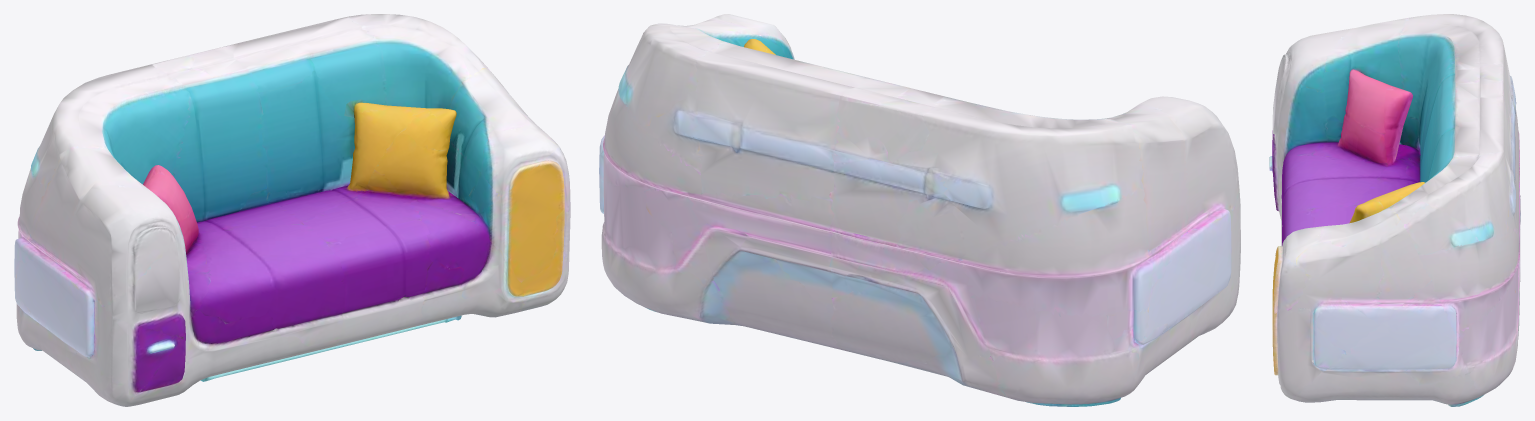
The model's file is sofa.glb.
3 renders of one model, left to right at view 1: azimuth 30°, elevation 25°; view 2: azimuth 150°, elevation 25°; view 3: azimuth 270°, elevation 25°, orthographic. The views are drawn at different scales.
Visible parts, largest first — view 1: mesh_node; view 2: mesh_node; view 3: mesh_node.
Part boxes in pixels (x1,y1,x2,y2): mesh_node: (14, 14, 570, 406); mesh_node: (599, 14, 1240, 406); mesh_node: (1269, 14, 1520, 406).
Bounding box in the file's own units: 1.95 × 0.9 × 0.9573.
Materials: 1 (1 with a texture image).
